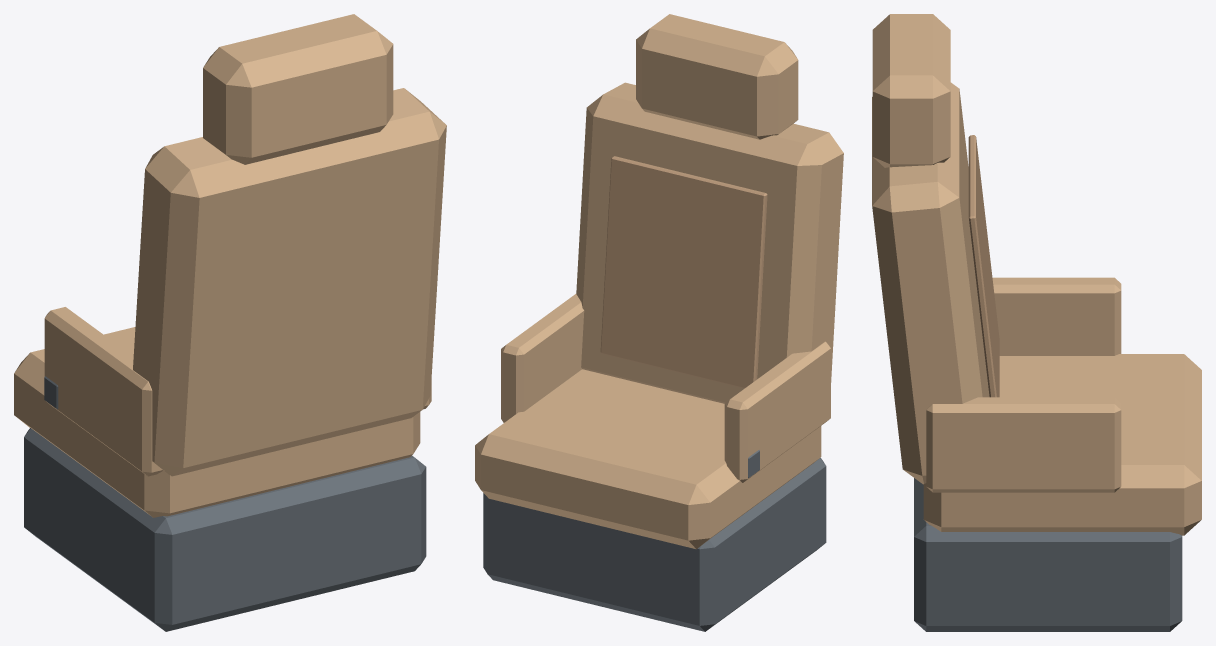
The model's file is FrontSeatRight.glb.
The picture shows the model from 3 angles, left to right: view 1: azimuth 30°, elevation 25°; view 2: azimuth 150°, elevation 25°; view 3: azimuth 270°, elevation 25°; orthographic projection. The views are drawn at different scales.
Parts seen in each view (by area): view 1: FrontSeatRight_SandUpholstery, FrontSeatRight_CharcoalTrim; view 2: FrontSeatRight_SandUpholstery, FrontSeatRight_SeatInsert, FrontSeatRight_CharcoalTrim; view 3: FrontSeatRight_SandUpholstery, FrontSeatRight_CharcoalTrim, FrontSeatRight_SeatInsert.
Part boxes in pixels (x1,y1,x2,y2): FrontSeatRight_SandUpholstery: (14,14,446,517); FrontSeatRight_CharcoalTrim: (24,376,426,631); FrontSeatRight_SandUpholstery: (475,14,843,549); FrontSeatRight_SeatInsert: (600,156,767,388); FrontSeatRight_CharcoalTrim: (483,450,826,631); FrontSeatRight_SandUpholstery: (872,14,1201,535); FrontSeatRight_CharcoalTrim: (914,478,1182,631); FrontSeatRight_SeatInsert: (968,135,999,397).
Size of the model in its own units: 0.6425 by 1.2 by 0.6758.
